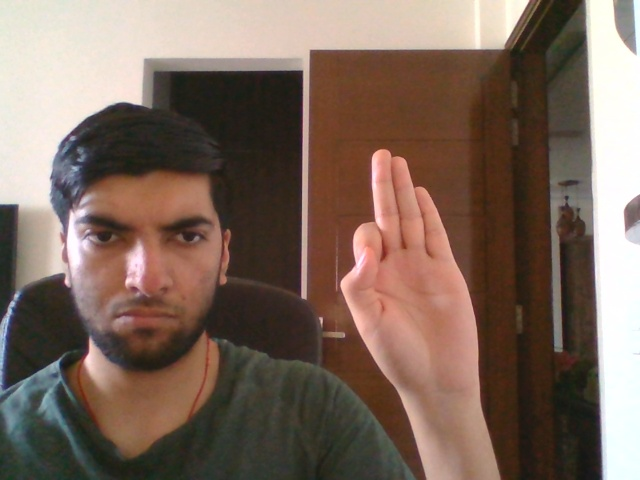LetterF: (339, 149, 480, 392)
